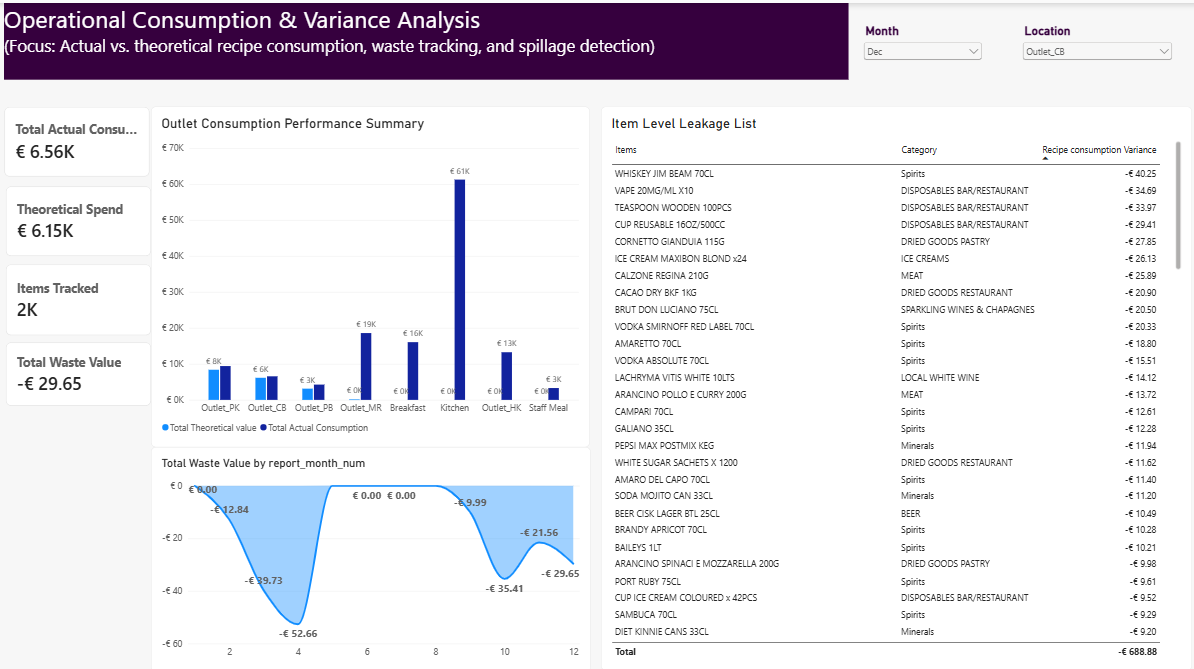

This screenshot's page, from the dashboard's own definition file:
{"tool":"powerbi","page":{"name":"Consumption & Waste","canvas":[1920,1080],"ordinal":3},"visuals":[{"type":"textbox","box":[9.5,0,1343.3,121.7],"z":0},{"type":"clusteredColumnChart","title":"Outlet Consumption Performance Summary","fields":{"Category":["vw_outlet_consumption_performance.location_name"],"Y":["Sum(vw_outlet_consumption_performance.total_theoretical_spend)","vw_outlet_consumption_performance.Total Actual Consumption"]},"box":[244,164,698,542],"z":1000},{"type":"cardVisual","fields":{"Data":["vw_outlet_consumption_performance.Total Actual Consumption"]},"box":[10,164,232,112],"z":2000},{"type":"slicer","fields":{"Values":["dim_month.report_month_name"]},"box":[1371.4,33.3,197.6,66.7],"z":3000},{"type":"slicer","fields":{"Values":["dim_location.location_name"]},"box":[1623.8,33.3,247.6,71.4],"z":4000},{"type":"cardVisual","fields":{"Data":["vw_outlet_consumption_performance.Total Waste Value"]},"box":[12,540,232,102],"z":5000},{"type":"cardVisual","fields":{"Data":["vw_outlet_consumption_performance.Items Tracked"]},"box":[12,416,232,114],"z":6000},{"type":"cardVisual","fields":{"Data":["vw_outlet_consumption_performance.Theoretical Spend"]},"box":[12,290,232,112],"z":7000},{"type":"tableEx","title":"Item Level Leakage List","fields":{"Values":["vw_item_negative_consumption_variance_alerts.item_name","vw_item_negative_consumption_variance_alerts.category","Sum(vw_item_negative_consumption_variance_alerts.total_difference_value)"]},"box":[960,165,940,897.5],"z":8000},{"type":"lineChart","fields":{"Category":["dim_month.report_month_num"],"Y":["vw_outlet_consumption_performance.Total Waste Value"]},"box":[243.4,706.2,699.1,357.9],"z":9000}]}

Visuals, with their boxes in screenshot pixels (x1, y1, x2, y2), scaled from the page's 1920x1080 canvas onto the 1194x669 screenshot:
textbox: x1=6 y1=0 x2=841 y2=75
"Outlet Consumption Performance Summary" clusteredColumnChart: x1=152 y1=102 x2=586 y2=437
cardVisual - vw_outlet_consumption_performance.Total Actual Consumption: x1=6 y1=102 x2=150 y2=171
slicer - dim_month.report_month_name: x1=853 y1=21 x2=976 y2=62
slicer - dim_location.location_name: x1=1010 y1=21 x2=1164 y2=65
cardVisual - vw_outlet_consumption_performance.Total Waste Value: x1=7 y1=334 x2=152 y2=398
cardVisual - vw_outlet_consumption_performance.Items Tracked: x1=7 y1=258 x2=152 y2=328
cardVisual - vw_outlet_consumption_performance.Theoretical Spend: x1=7 y1=180 x2=152 y2=249
"Item Level Leakage List" tableEx: x1=597 y1=102 x2=1182 y2=658
lineChart - dim_month.report_month_num x vw_outlet_consumption_performance.Total Waste Value: x1=151 y1=437 x2=586 y2=659
